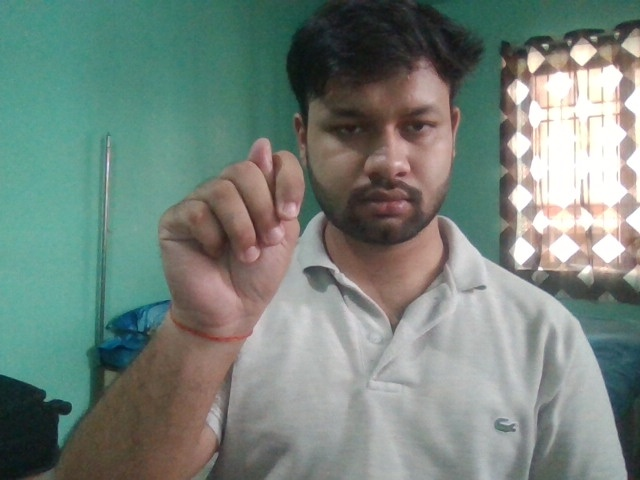Bathroom: (146, 127, 310, 381)
